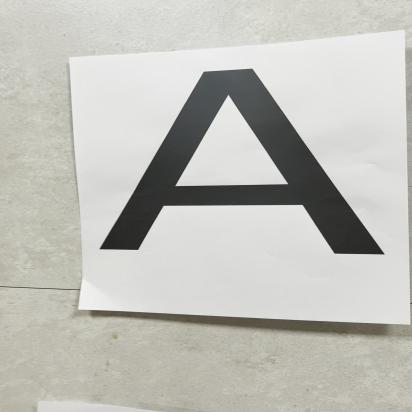seat: (89, 63, 412, 265)
